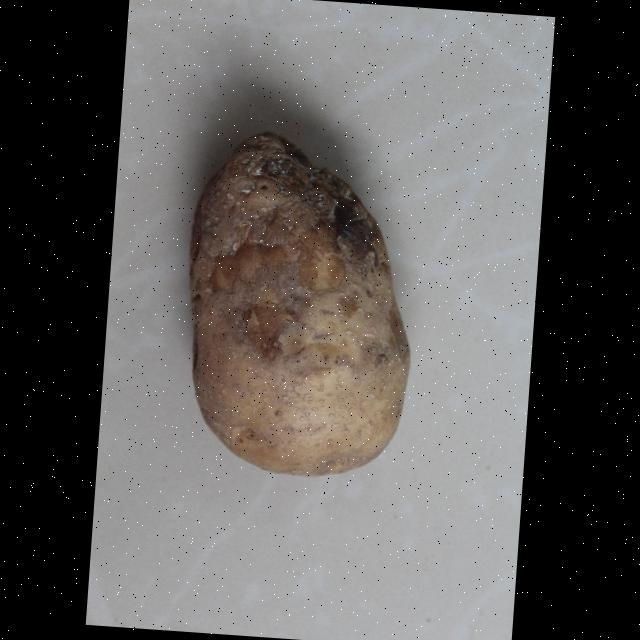Diseased-fungal potato: (166, 125, 434, 488)
